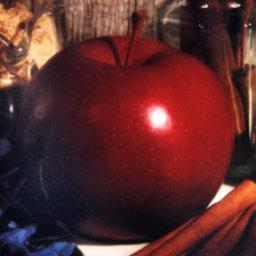apple: (17, 27, 238, 244)
